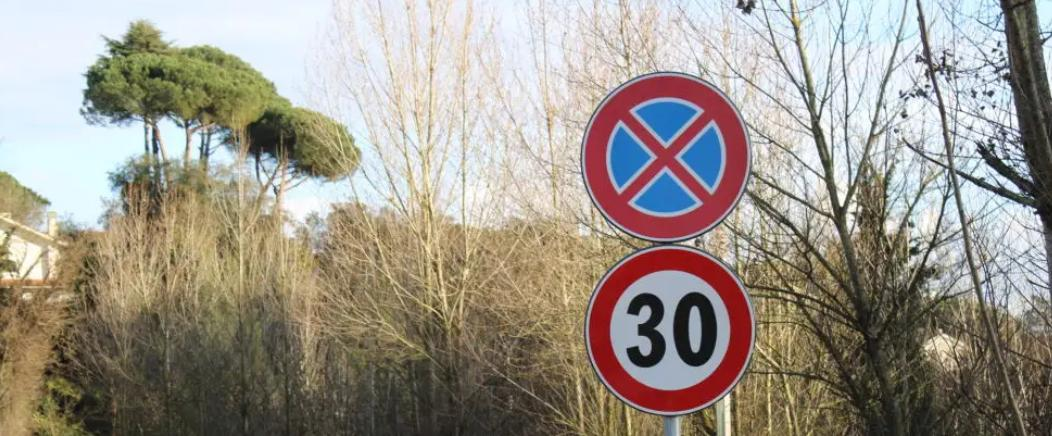road_sign: (580, 72, 751, 243), (585, 245, 756, 415)
